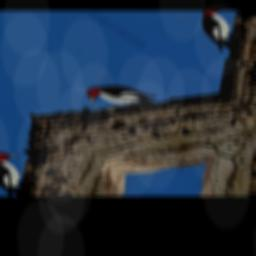Woodpecker: (70, 65, 171, 132)
